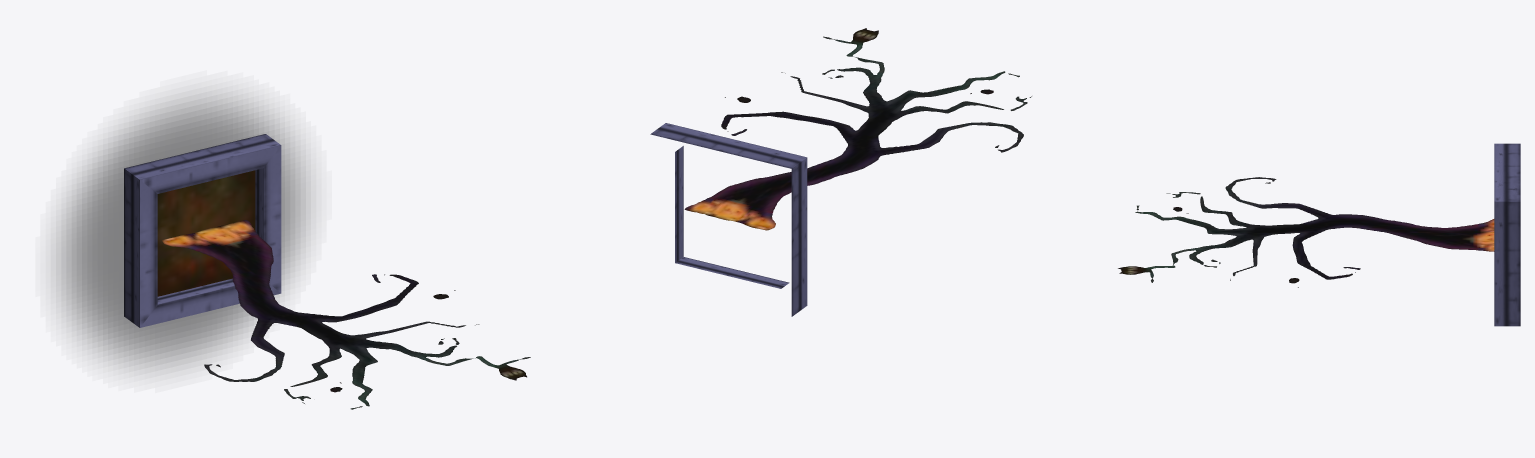
The model's file is prop_tree_DL_brickbox_ul.glb.
3 views of the same model, side by side, from view 1: azimuth 30°, elevation 25°; view 2: azimuth 150°, elevation 25°; view 3: azimuth 270°, elevation 25° (orthographic). The views are drawn at different scales.
Visible parts, largest first — view 1: shadow, box, tree__billboard; view 2: tree__billboard, box; view 3: tree__billboard, box.
Part boxes in pixels (x1,y1,x2,y2): shadow: (56, 92, 310, 371); box: (124, 134, 281, 327); tree__billboard: (162, 220, 530, 409); tree__billboard: (684, 28, 1031, 230); box: (650, 123, 807, 316); tree__billboard: (1118, 177, 1494, 287); box: (1494, 143, 1520, 326).
Size of the model in its own units: 12.21 by 12.21 by 16.51.
4 materials, 4 textured.
